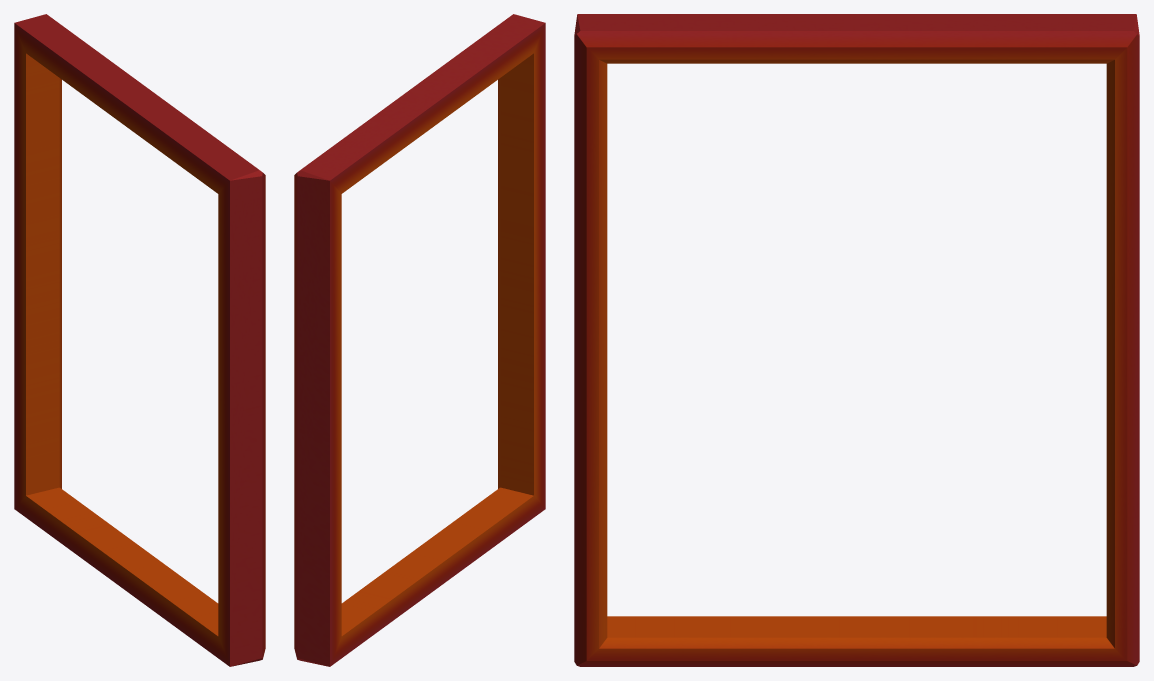
File: frame.fbx
The picture shows the model from 3 angles, left to right: view 1: azimuth 30°, elevation 25°; view 2: azimuth 150°, elevation 25°; view 3: azimuth 270°, elevation 25°; orthographic projection. The views are drawn at different scales.
Visible parts, largest first — view 1: frame; view 2: frame; view 3: frame.
Part boxes in pixels (x1,y1,x2,y2): frame: (14, 14, 265, 666); frame: (294, 14, 545, 666); frame: (574, 14, 1139, 666).
Size of the model in its own units: 1.78 by 21.23 by 17.11.
